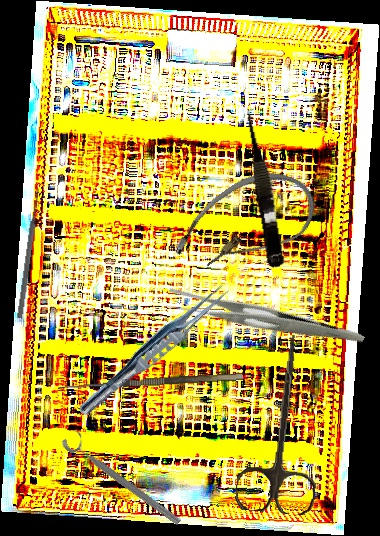Cannula: (161, 151, 328, 299)
Dressing Forceps: (161, 240, 366, 400)
Fixation Ring: (59, 426, 189, 529)
Hook Surgical: (57, 373, 244, 400)
Iris Scissors: (234, 330, 329, 517)
Micro Scissor: (239, 102, 289, 270)
Pusher: (15, 187, 43, 319)
Tissue Forceps: (73, 274, 236, 425)
